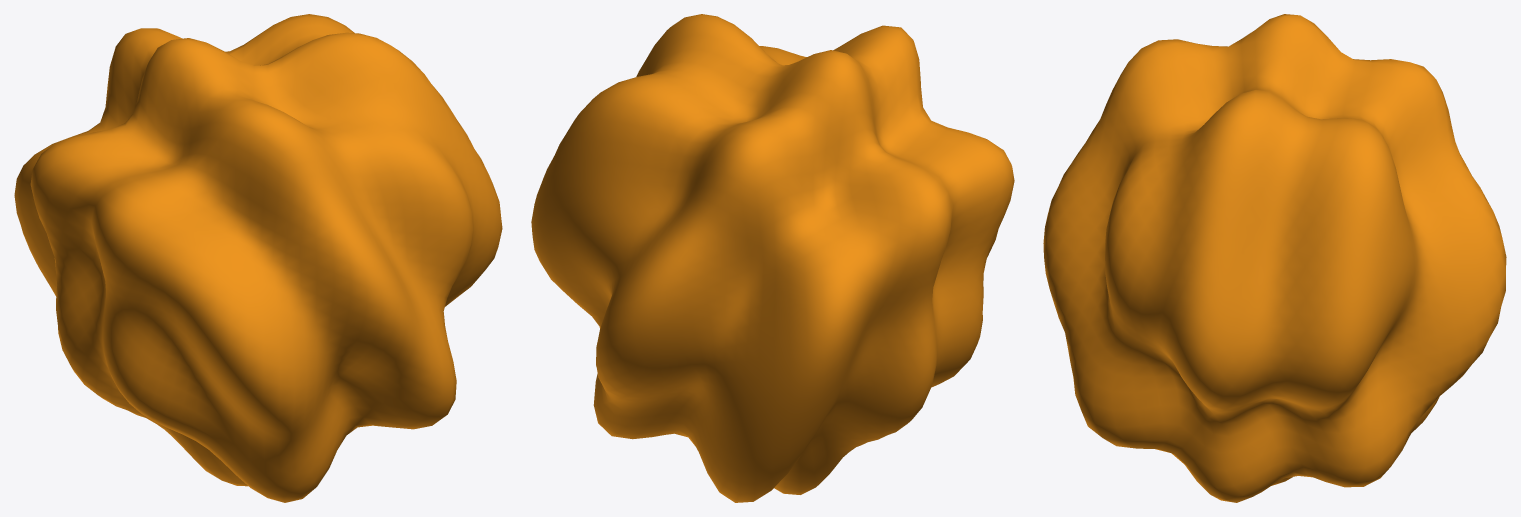
The model's file is Stone.obj.
3 renders of one model, left to right at view 1: azimuth 30°, elevation 25°; view 2: azimuth 150°, elevation 25°; view 3: azimuth 270°, elevation 25°, orthographic. The views are drawn at different scales.
Parts seen in each view (by area): view 1: Stone; view 2: Stone; view 3: Stone.
Part boxes in pixels (bbox=[...]): Stone: bbox=[14, 14, 502, 502]; Stone: bbox=[531, 14, 1014, 502]; Stone: bbox=[1043, 14, 1506, 502].
Size of the model in its own units: 0.6508 by 0.6949 by 0.6591.
